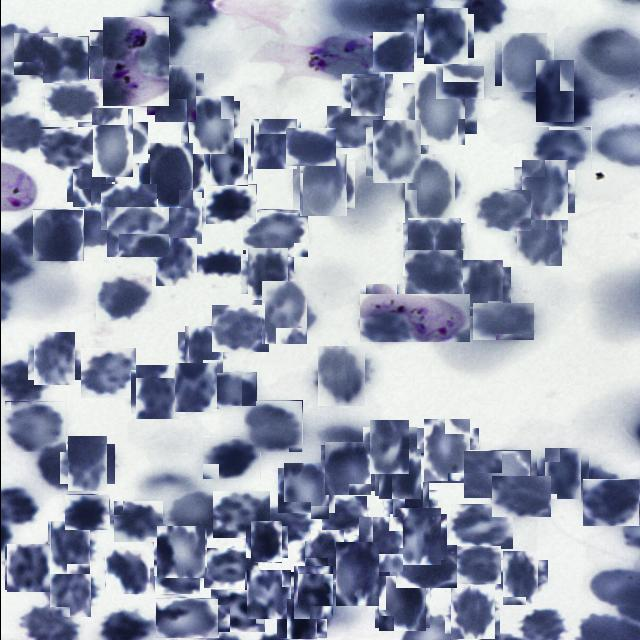red blood cell: (408, 78, 470, 140), (400, 158, 460, 218), (404, 220, 462, 278), (463, 450, 530, 498), (106, 206, 169, 257), (242, 209, 308, 257), (4, 401, 66, 452), (368, 124, 424, 180), (418, 424, 474, 479), (84, 115, 140, 170), (243, 400, 302, 452), (34, 442, 96, 491), (144, 148, 198, 204), (166, 490, 228, 538), (296, 158, 350, 213), (314, 349, 368, 403), (256, 286, 310, 340), (330, 547, 384, 601), (517, 163, 570, 217), (449, 504, 512, 549), (498, 36, 550, 90), (183, 98, 236, 150), (80, 348, 135, 398), (512, 212, 564, 264), (376, 578, 428, 630), (32, 210, 84, 262), (211, 305, 268, 352), (212, 491, 269, 538), (582, 479, 639, 526), (404, 249, 463, 294), (154, 526, 205, 578), (395, 545, 456, 588), (280, 465, 331, 516), (392, 512, 444, 562), (532, 126, 591, 170), (95, 275, 151, 321), (100, 184, 156, 230), (528, 66, 579, 116), (155, 598, 218, 638), (420, 11, 470, 61), (322, 443, 372, 493), (355, 519, 405, 569), (202, 436, 260, 479), (150, 70, 200, 119), (132, 368, 182, 417), (491, 476, 550, 517), (472, 302, 534, 340), (447, 588, 496, 636), (326, 106, 382, 148), (29, 335, 78, 383), (458, 264, 507, 312), (210, 589, 264, 632), (46, 566, 94, 614), (44, 524, 92, 572), (68, 157, 116, 205), (62, 440, 110, 488), (39, 128, 93, 170), (158, 194, 205, 242), (243, 250, 290, 298), (476, 190, 530, 231), (245, 571, 292, 618), (87, 31, 134, 78), (252, 120, 298, 168), (42, 36, 88, 83), (366, 424, 412, 471), (203, 548, 257, 588), (66, 207, 117, 249), (180, 328, 226, 374), (300, 532, 346, 578), (5, 545, 51, 591), (376, 452, 422, 498), (289, 570, 335, 616), (172, 364, 218, 410), (113, 500, 163, 542), (205, 184, 256, 224), (497, 556, 542, 601), (153, 240, 199, 284), (388, 486, 432, 531), (206, 140, 250, 184), (540, 451, 584, 495), (104, 550, 148, 594), (285, 128, 335, 166), (12, 33, 56, 76), (44, 85, 98, 120), (262, 502, 310, 541), (540, 91, 591, 127), (321, 496, 366, 536), (362, 286, 404, 328), (346, 70, 388, 112), (154, 555, 199, 594), (454, 546, 500, 584), (206, 372, 256, 406), (435, 65, 484, 99), (372, 32, 413, 72), (64, 494, 109, 530), (281, 603, 322, 640), (247, 524, 284, 560), (199, 250, 245, 278)
trophozoite: (102, 16, 169, 106), (359, 294, 469, 342), (301, 31, 378, 78)
